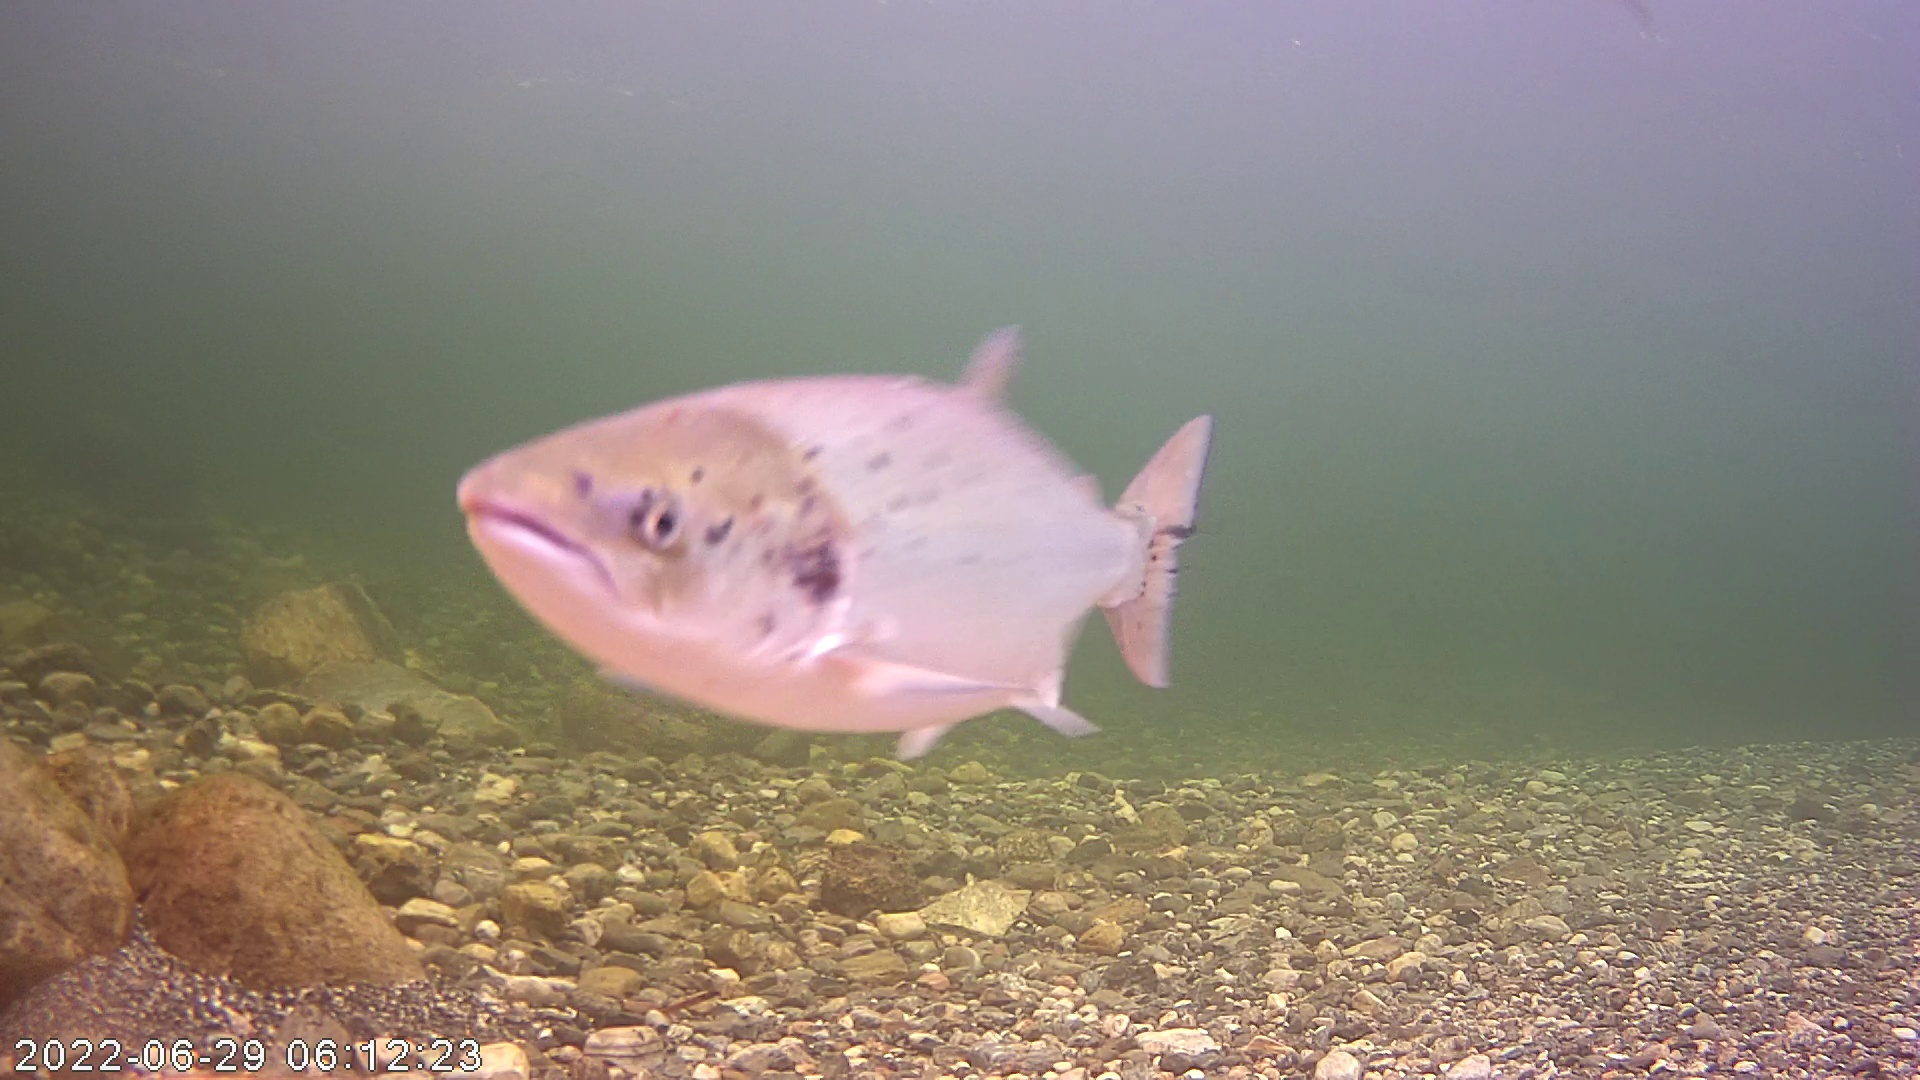salmon: (438, 258, 1222, 761)
